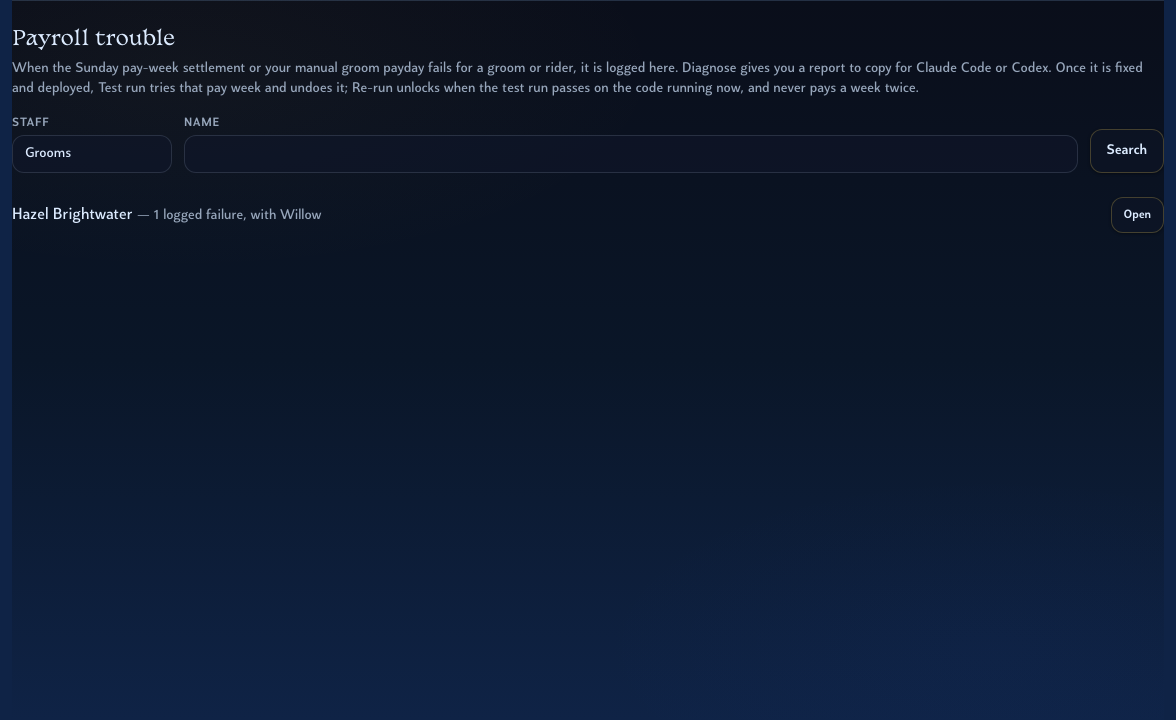
Test: StaffPayrollDiagnostics › File for Claude Code files once, then says it is filed
The width and height of the screenshot is (1176, 720).
Click the button with aria-label "Open Hazel Brightwater" at coordinates (1137, 215), box [1111,197,1164,233]
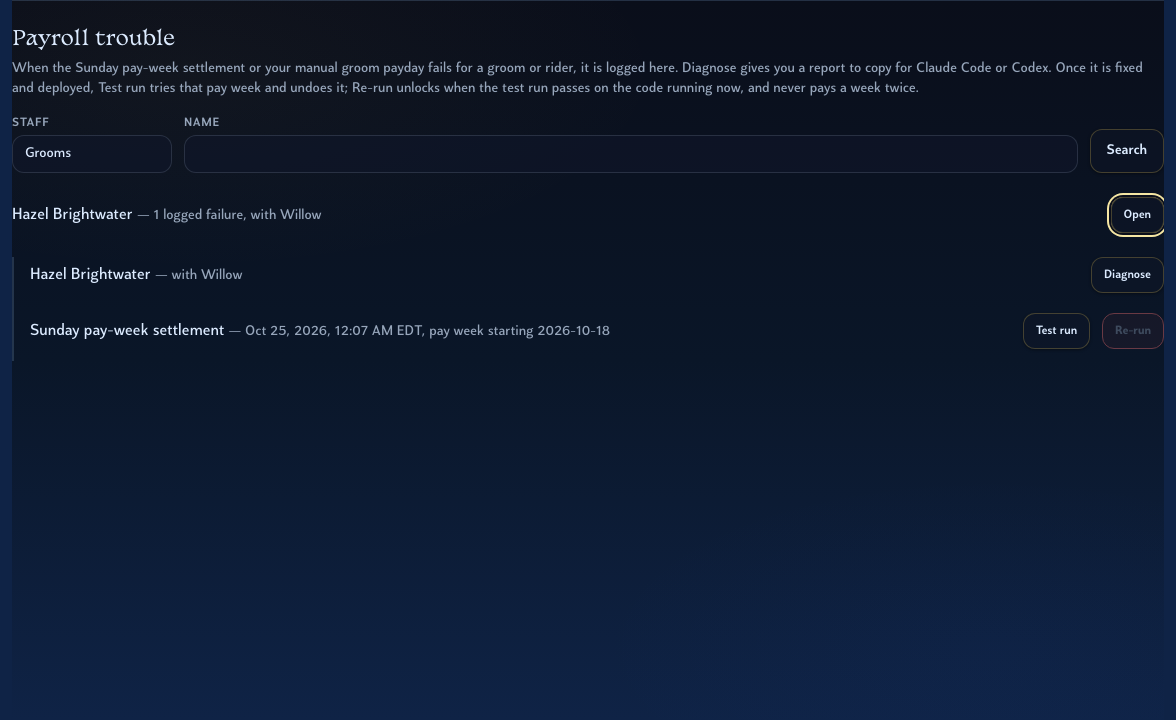
Click the button with aria-label "Diagnose Hazel Brightwater" at coordinates (1127, 275), box [1091,257,1164,293]
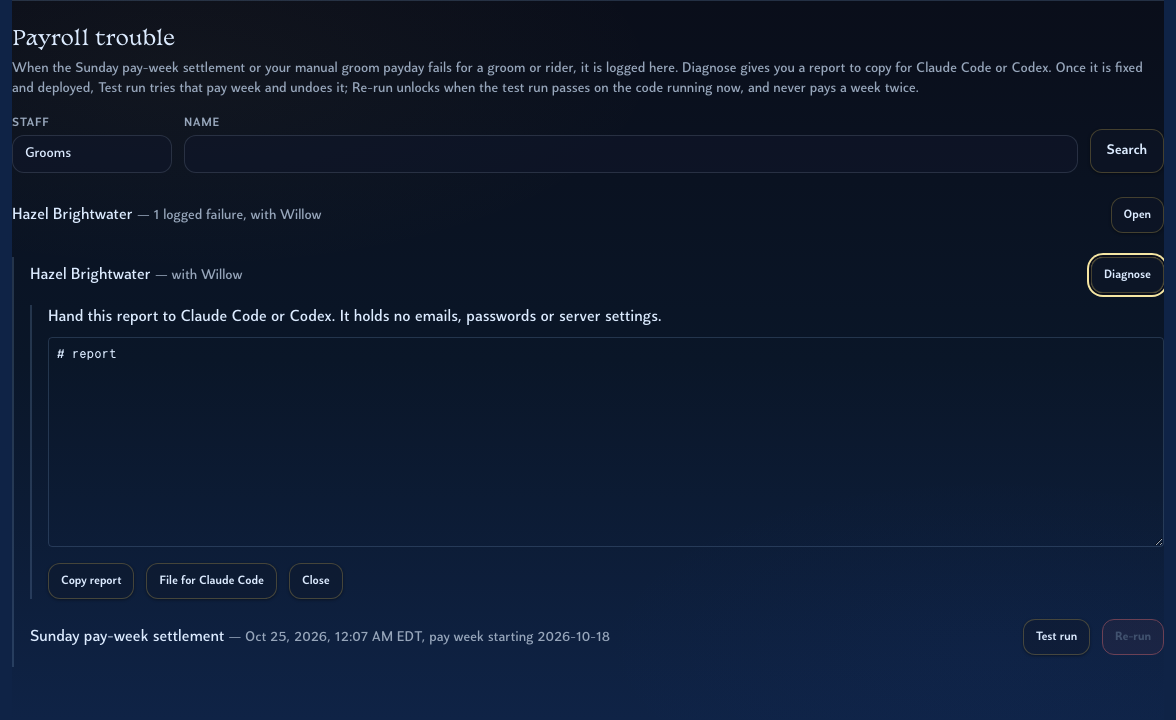
Click the button "File for Claude Code" at coordinates (212, 581), box [146,563,277,599]
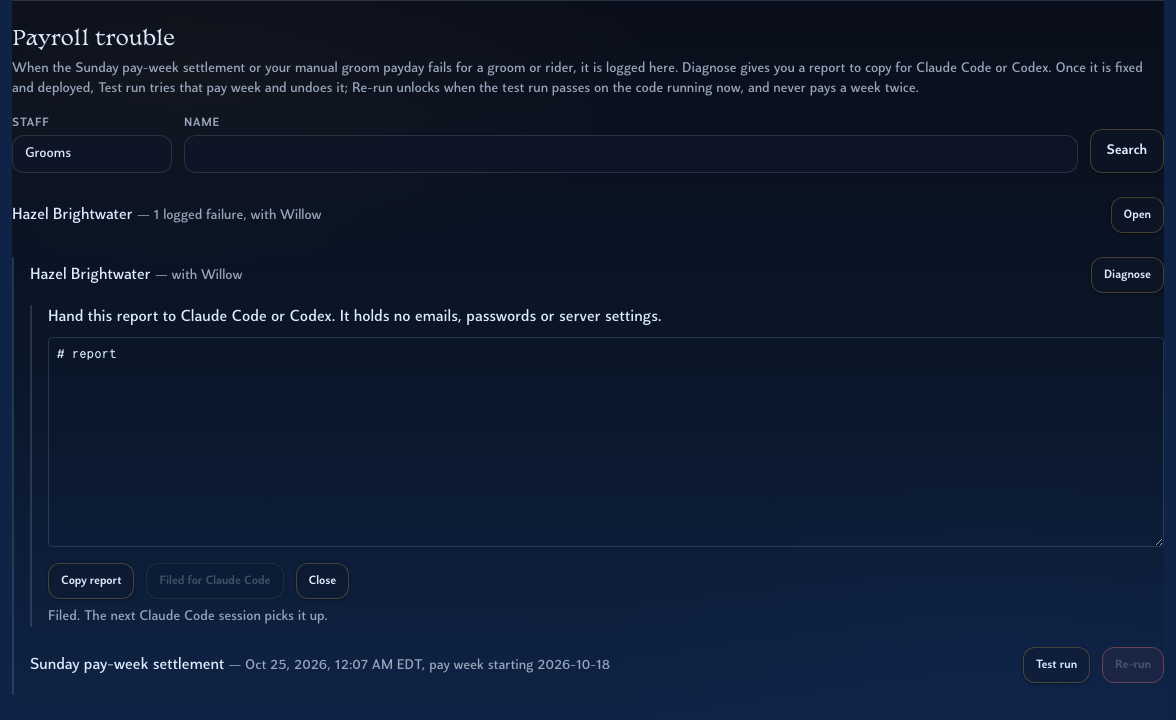
Expected: the text "Filed. The next Claude Code session picks it up." is shown, [48,609,328,624]
Expected: the button "Filed for Claude Code" is disabled, [146,563,284,599]
# Opened again later, Diagnose already knows it is filed.
Click the button "Close" at coordinates (322, 581), box [296,563,349,599]
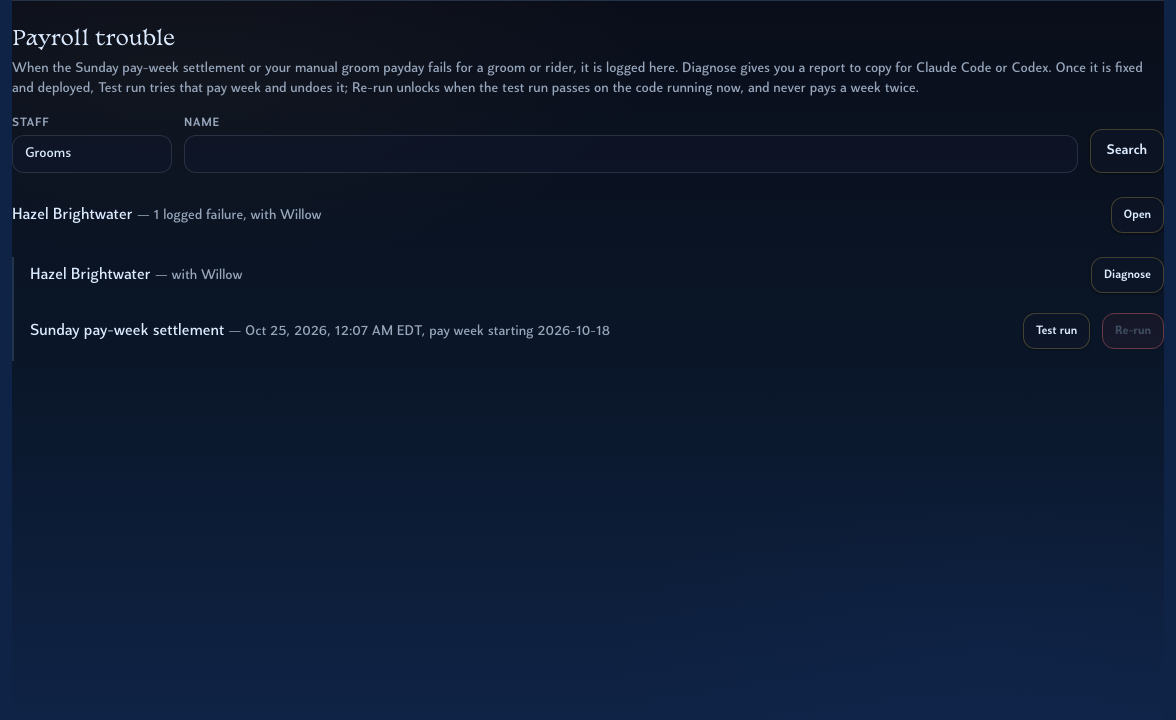
Click the button with aria-label "Diagnose Hazel Brightwater" at coordinates (1127, 275), box [1091,257,1164,293]
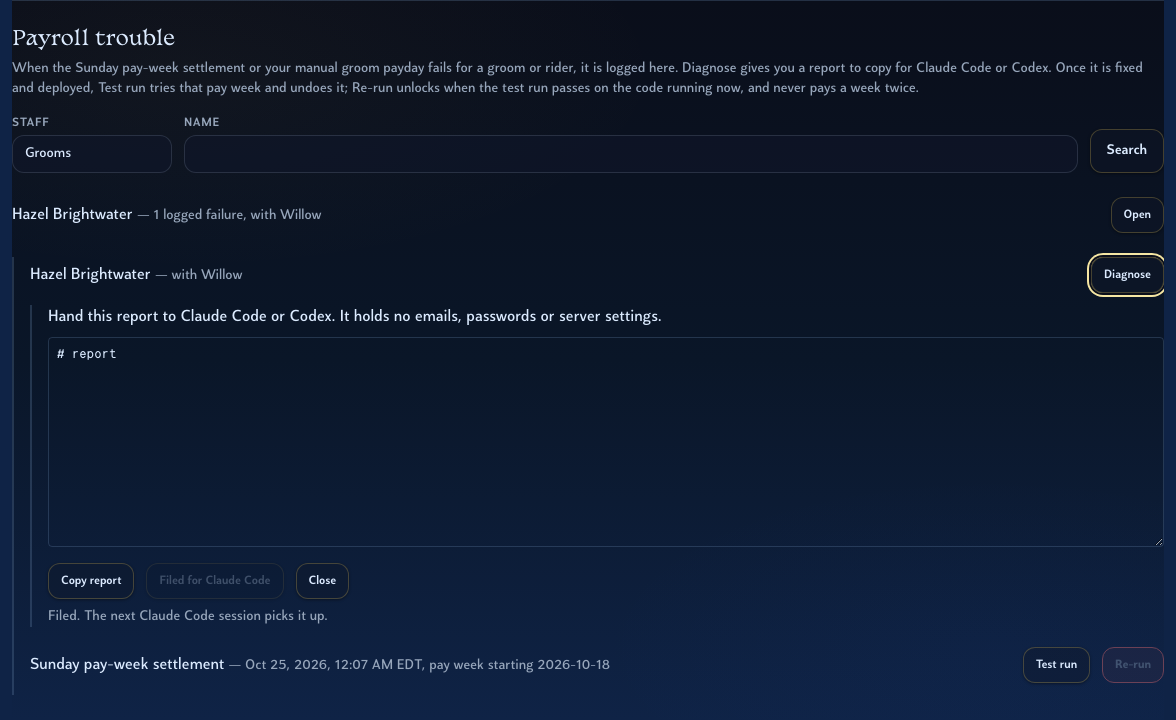
Expected: the button "Filed for Claude Code" is disabled, [146,563,284,599]
